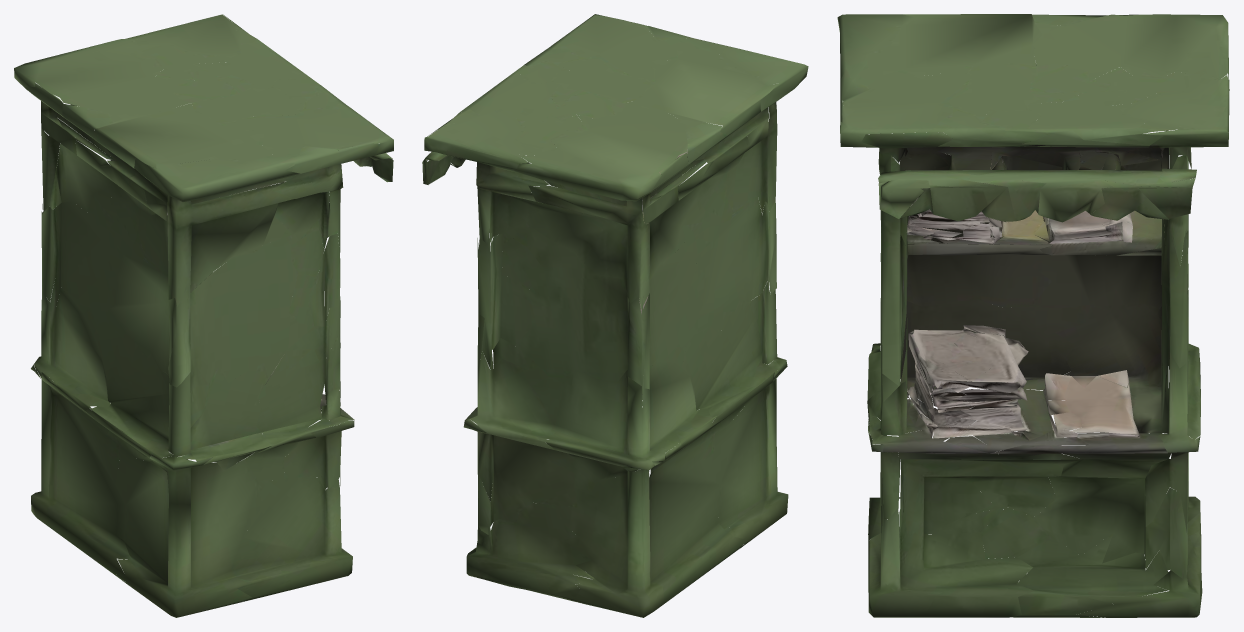
The model's file is penn_newsstand.glb.
3 views of the same model, side by side, from view 1: azimuth 30°, elevation 25°; view 2: azimuth 150°, elevation 25°; view 3: azimuth 270°, elevation 25° (orthographic). The views are drawn at different scales.
Parts seen in each view (by area): view 1: tripo_node_04bc3d65-b05a-4e4c-a969-0e01ba858dda; view 2: tripo_node_04bc3d65-b05a-4e4c-a969-0e01ba858dda; view 3: tripo_node_04bc3d65-b05a-4e4c-a969-0e01ba858dda.
Part boxes in pixels (left/top/right/bottom): tripo_node_04bc3d65-b05a-4e4c-a969-0e01ba858dda: left=14, top=14, right=393, bottom=617; tripo_node_04bc3d65-b05a-4e4c-a969-0e01ba858dda: left=422, top=14, right=808, bottom=617; tripo_node_04bc3d65-b05a-4e4c-a969-0e01ba858dda: left=837, top=14, right=1229, bottom=617.
Size of the model in its own units: 0.553 by 1 by 0.705.
1 material, 1 textured.
